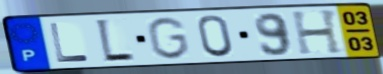0: (196, 14, 235, 59)
9: (253, 12, 294, 57)
G: (144, 15, 192, 61)
H: (288, 8, 346, 57)
L: (93, 18, 138, 65), (47, 22, 92, 64)
